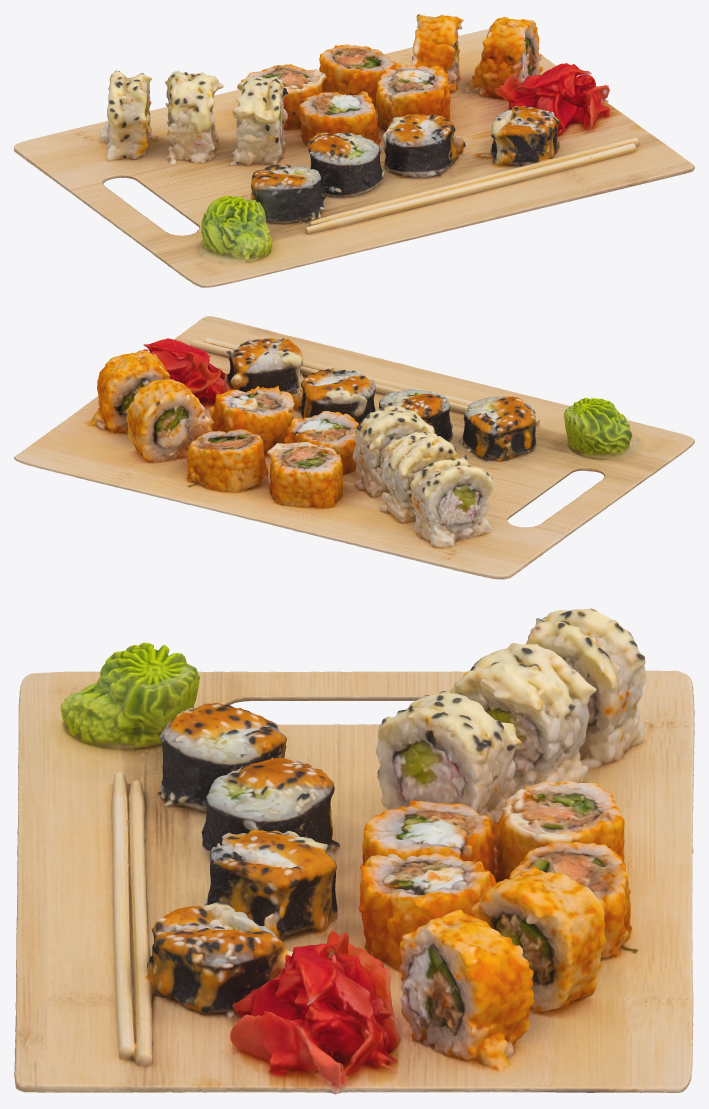
The model's file is sushi02_2.glb.
3 renders of one model, top to bottom at view 1: azimuth 30°, elevation 25°; view 2: azimuth 150°, elevation 25°; view 3: azimuth 270°, elevation 25°, orthographic. The views are drawn at different scales.
Visible parts, largest first — view 1: syshi all HP_0; view 2: syshi all HP_0; view 3: syshi all HP_0.
Part boxes in pixels (box(x1,y1,x2,y2)): syshi all HP_0: box(14, 14, 694, 287); syshi all HP_0: box(14, 316, 694, 579); syshi all HP_0: box(14, 608, 694, 1094).
Size of the model in its own units: 7.84 by 1.18 by 5.36.
1 material, 1 textured.
